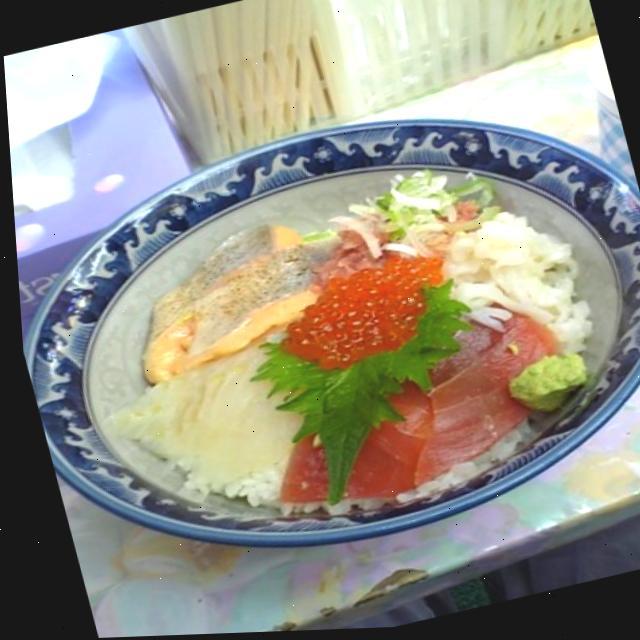刺身生食: (61, 150, 640, 538)
